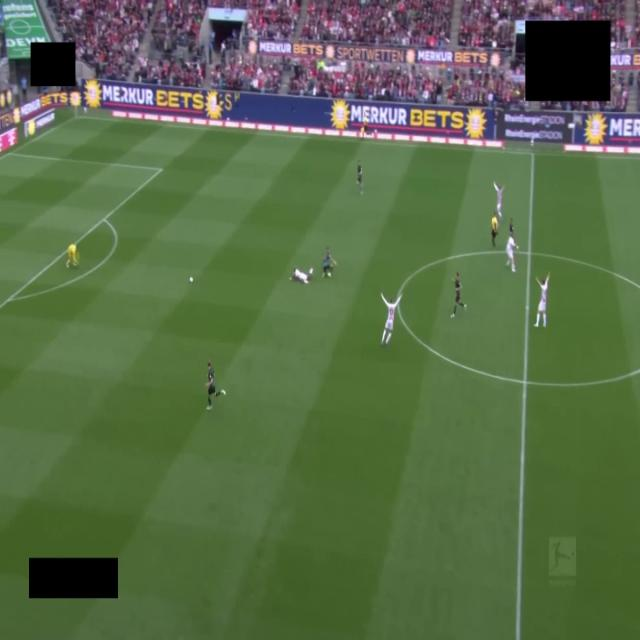ball: (189, 277, 193, 282)
player: (381, 294, 401, 344), (206, 361, 225, 409), (534, 274, 549, 327), (451, 272, 466, 318), (506, 236, 518, 272), (323, 248, 336, 277), (290, 268, 312, 284), (494, 183, 503, 219), (66, 245, 78, 267), (357, 161, 363, 195), (509, 218, 515, 239)
referee: (491, 213, 498, 247)
